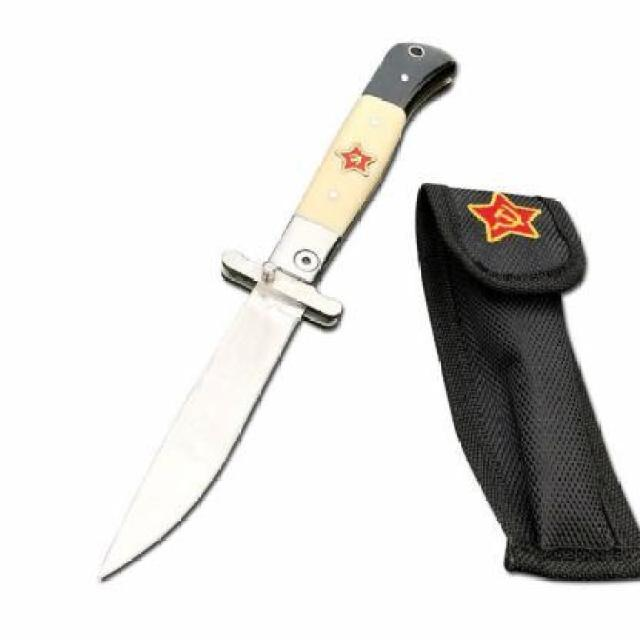weapon: (82, 15, 485, 607)
